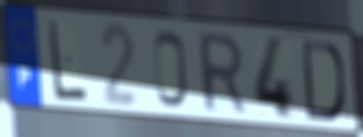0: (152, 29, 189, 109)
2: (99, 21, 139, 110)
4: (252, 35, 298, 122)
D: (300, 38, 348, 124)
L: (47, 17, 90, 104)
R: (194, 30, 249, 116)
